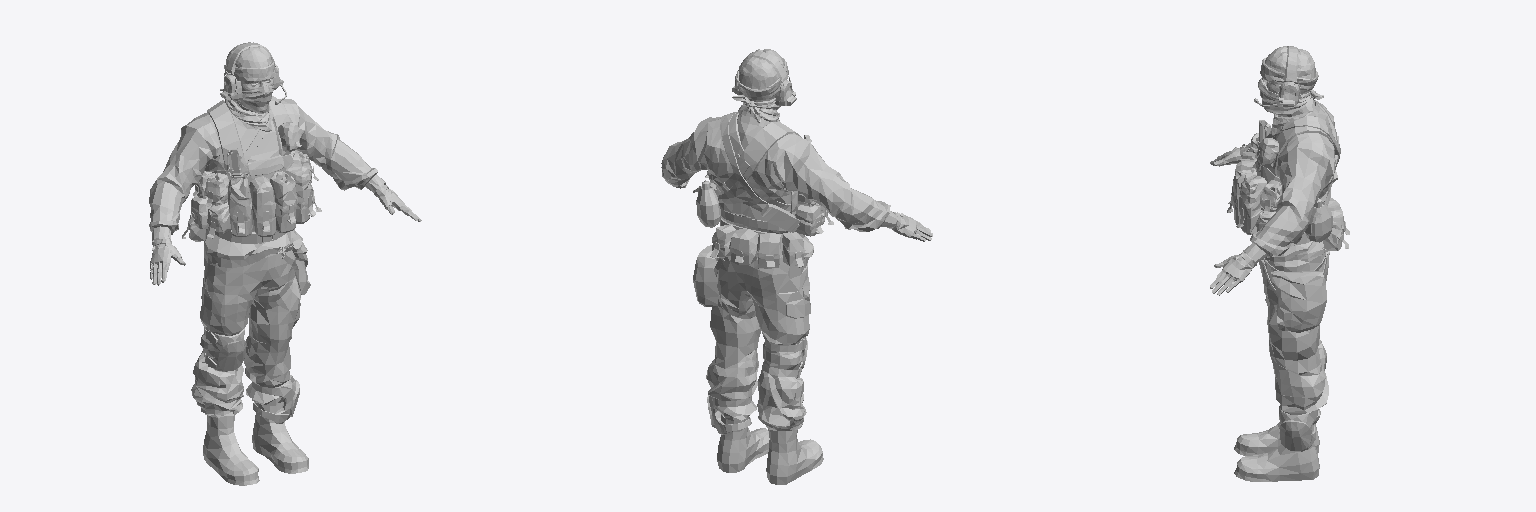
File: Soldado 1.obj
3 views of the same model, side by side, from view 1: azimuth 30°, elevation 25°; view 2: azimuth 150°, elevation 25°; view 3: azimuth 270°, elevation 25° (orthographic).
Visible parts, largest first — view 1: Middle_Part_Mesh.003, Bottom_Part_Mesh.004, Head_Mesh; view 2: Middle_Part_Mesh.003, Bottom_Part_Mesh.004, Head_Mesh; view 3: Middle_Part_Mesh.003, Bottom_Part_Mesh.004, Head_Mesh.
Boxes of the visible parts, <box> form: Middle_Part_Mesh.003: <box>149,96,421,285</box>; Bottom_Part_Mesh.004: <box>191,228,310,485</box>; Head_Mesh: <box>220,42,286,131</box>; Middle_Part_Mesh.003: <box>661,112,932,268</box>; Bottom_Part_Mesh.004: <box>693,245,823,484</box>; Head_Mesh: <box>732,49,796,122</box>; Middle_Part_Mesh.003: <box>1210,100,1349,295</box>; Bottom_Part_Mesh.004: <box>1234,241,1329,481</box>; Head_Mesh: <box>1254,46,1323,136</box>.
Bounding box in the file's own units: 1.22 × 1.82 × 0.5579.